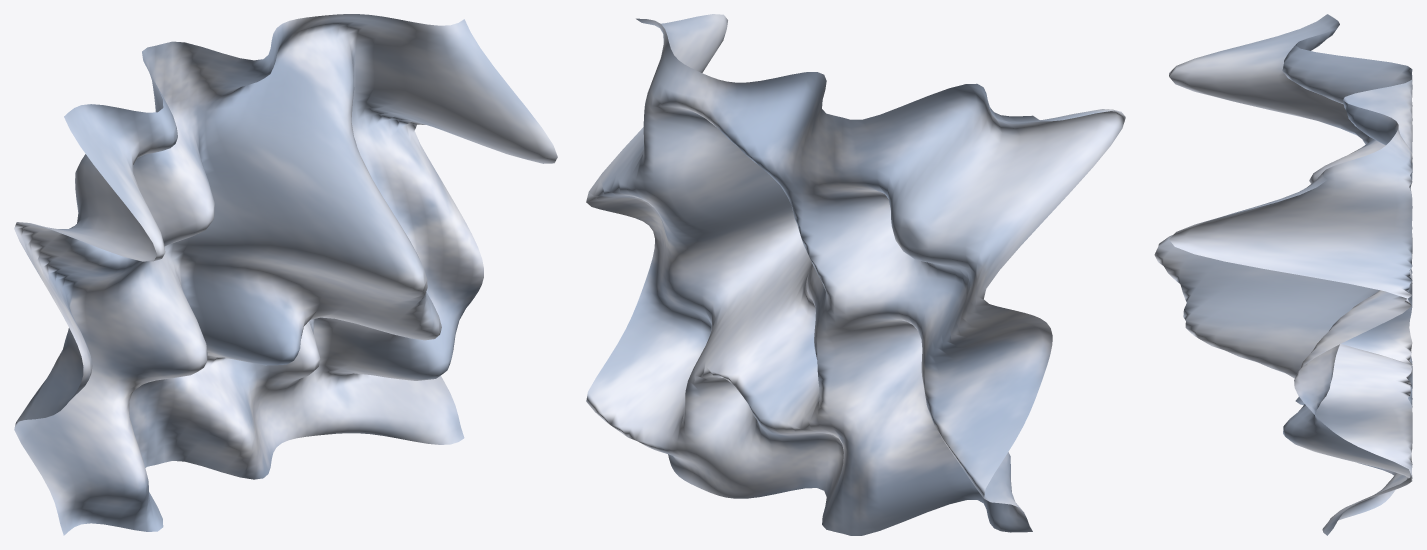
File: cloudSurface.obj
3 renders of one model, left to right at view 1: azimuth 30°, elevation 25°; view 2: azimuth 150°, elevation 25°; view 3: azimuth 270°, elevation 25°, orthographic. The views are drawn at different scales.
Visible parts, largest first — view 1: CloudSurface; view 2: CloudSurface; view 3: CloudSurface.
Boxes of the visible parts, left/top/right/bottom form: CloudSurface: left=14, top=14, right=557, bottom=535; CloudSurface: left=586, top=14, right=1125, bottom=535; CloudSurface: left=1154, top=14, right=1412, bottom=535.
Size of the model in its own units: 2 by 2 by 1.31.
Materials: 1 (1 with a texture image).
